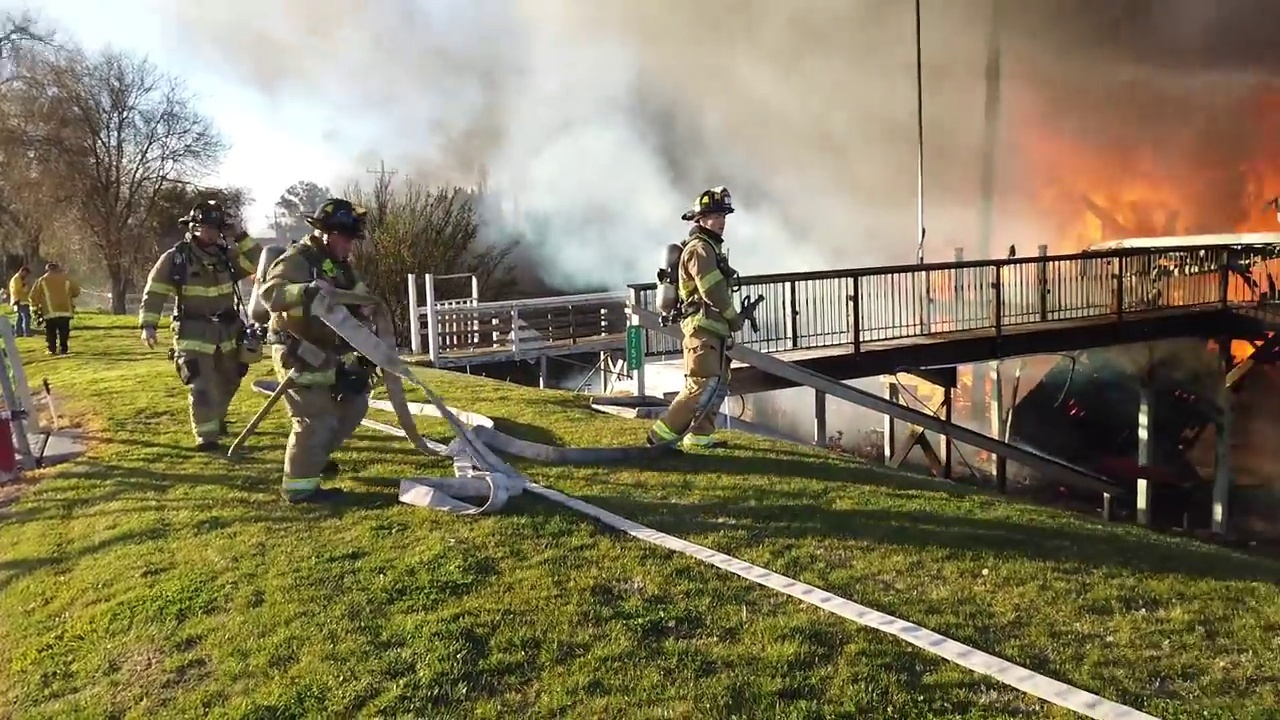fire: (1018, 147, 1226, 252), (1228, 156, 1280, 358)
smoke: (687, 4, 1280, 151), (392, 1, 680, 282), (219, 16, 390, 203), (725, 154, 1018, 258), (1055, 332, 1224, 412), (828, 398, 883, 458), (747, 394, 814, 439)
